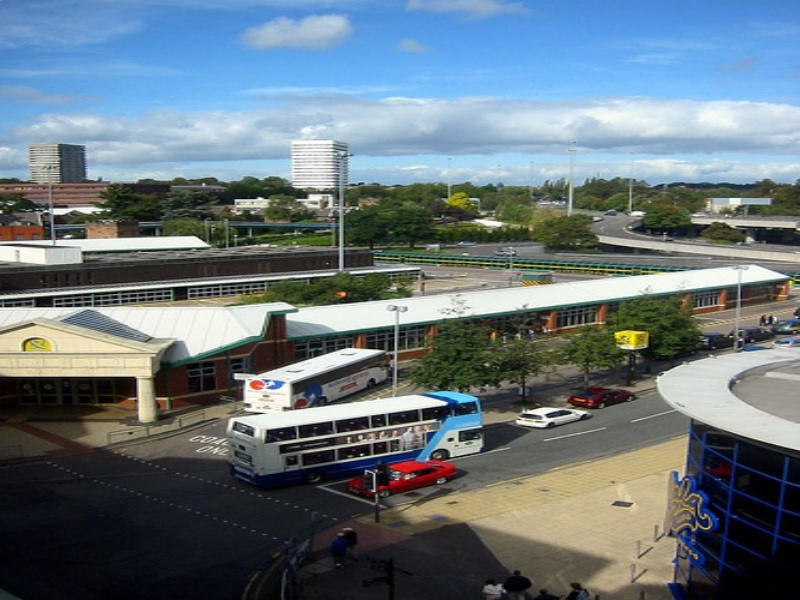car: (225, 391, 483, 488), (242, 347, 392, 413), (349, 460, 456, 498), (516, 406, 592, 430), (567, 387, 635, 409), (769, 319, 800, 336)
